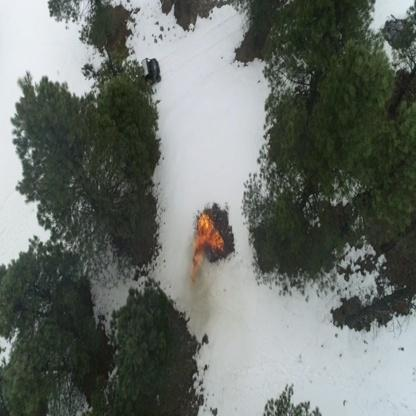Fire: (188, 211, 225, 283)
